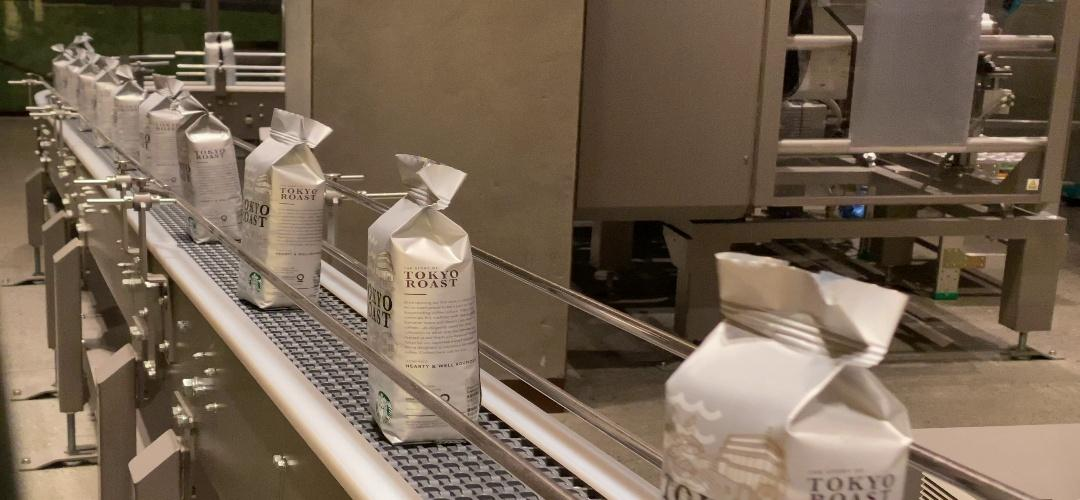conveyor: (665, 379, 906, 500), (363, 226, 480, 343), (241, 157, 324, 252)
